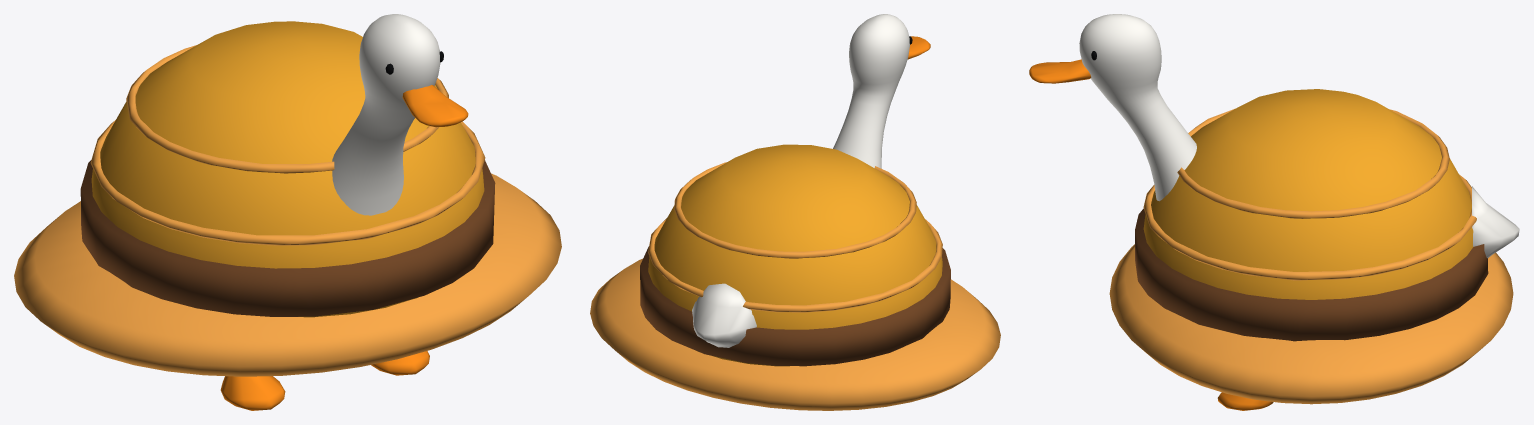
File: duck-farmer.glb
3 renders of one model, left to right at view 1: azimuth 30°, elevation 25°; view 2: azimuth 150°, elevation 25°; view 3: azimuth 270°, elevation 25°, orthographic. The views are drawn at different scales.
Visible parts, largest first — view 1: duck-farmer; view 2: duck-farmer; view 3: duck-farmer.
Part boxes in pixels (box(x1,y1,x2,y2)): duck-farmer: box(14, 14, 561, 410); duck-farmer: box(590, 14, 1000, 410); duck-farmer: box(1029, 14, 1519, 410).
Size of the model in its own units: 0.9927 by 0.8044 by 1.
1 material, 1 textured.
